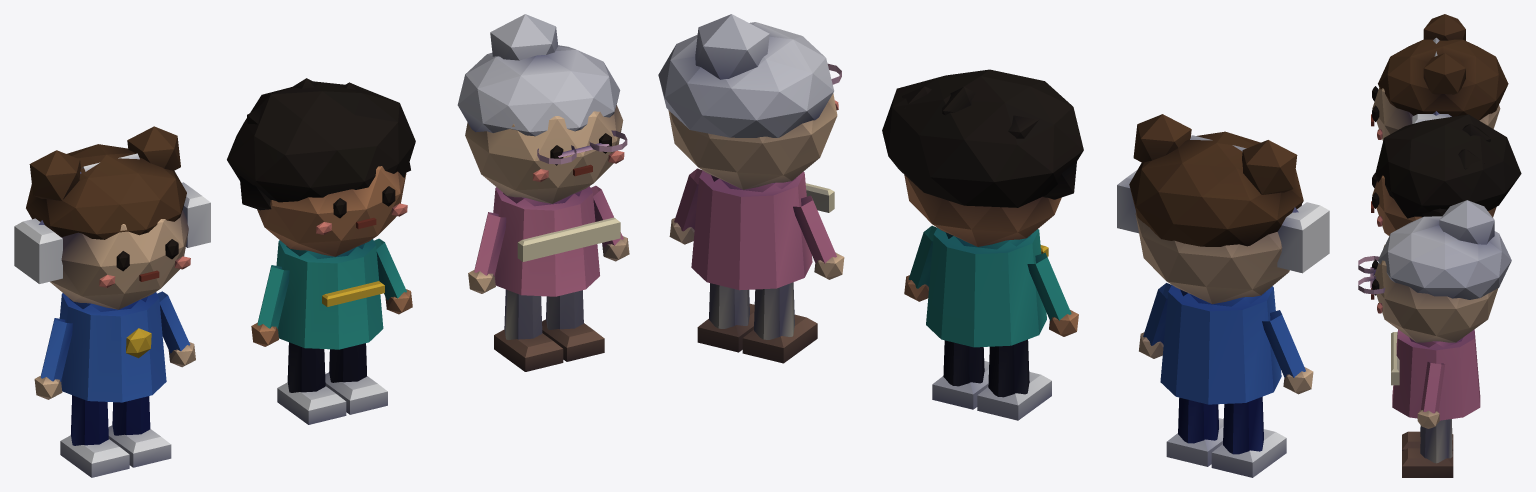
File: tokens.glb
The picture shows the model from 3 angles, left to right: view 1: azimuth 30°, elevation 25°; view 2: azimuth 150°, elevation 25°; view 3: azimuth 270°, elevation 25°; orthographic projection. The views are drawn at different scales.
Parts seen in each view (by area): view 1: token_tu, token_mama, token_abuela; view 2: token_tu, token_mama, token_abuela; view 3: token_abuela, token_mama, token_tu.
Boxes of the visible parts, <box> form: token_tu: <box>14,126,210,477</box>; token_mama: <box>227,78,415,424</box>; token_abuela: <box>457,14,629,371</box>; token_tu: <box>1117,114,1329,477</box>; token_mama: <box>882,69,1083,420</box>; token_abuela: <box>658,14,844,363</box>; token_abuela: <box>1358,200,1511,477</box>; token_mama: <box>1371,114,1521,235</box>; token_tu: <box>1371,14,1508,140</box>.
Bounding box in the file's own units: 33.12 × 16.9 × 9.54.
